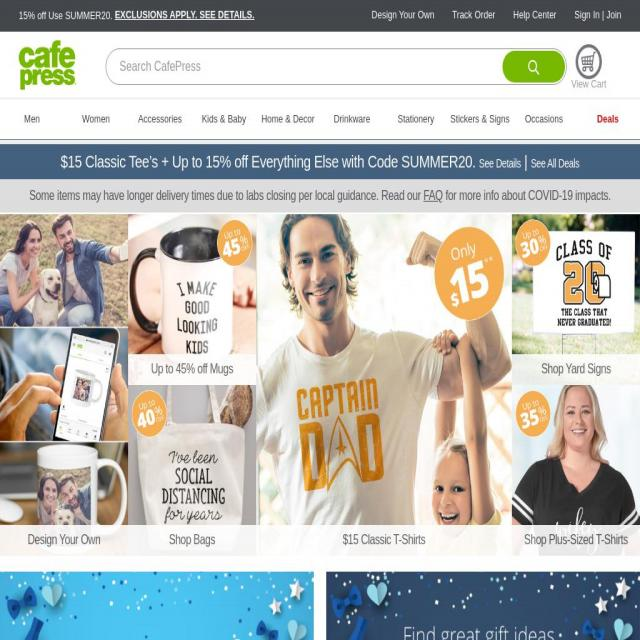login-option: (572, 5, 602, 25)
navigation-blocks: (11, 193, 640, 640)
navigation-links: (19, 102, 626, 145), (361, 8, 640, 37)
search: (100, 38, 568, 90)
sign-up-option: (604, 6, 625, 26)
